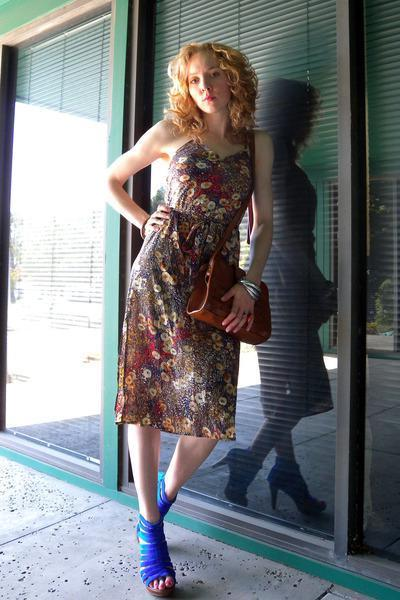dress: (102, 122, 264, 439)
